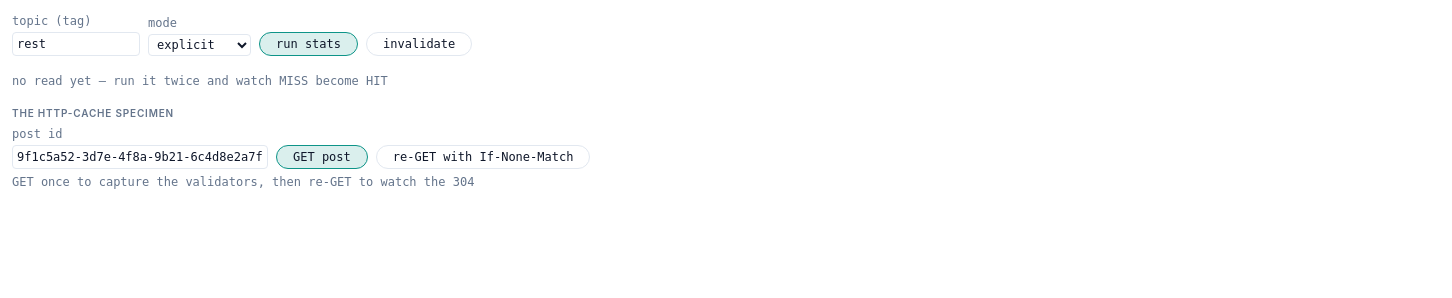
Test case: LabDemo › captures the etag from the 200 and sends it back as If-None-Match for the 304
The width and height of the screenshot is (1452, 298).
Click the button with test id "caching-get" at (322, 157), box [276,145,368,169]
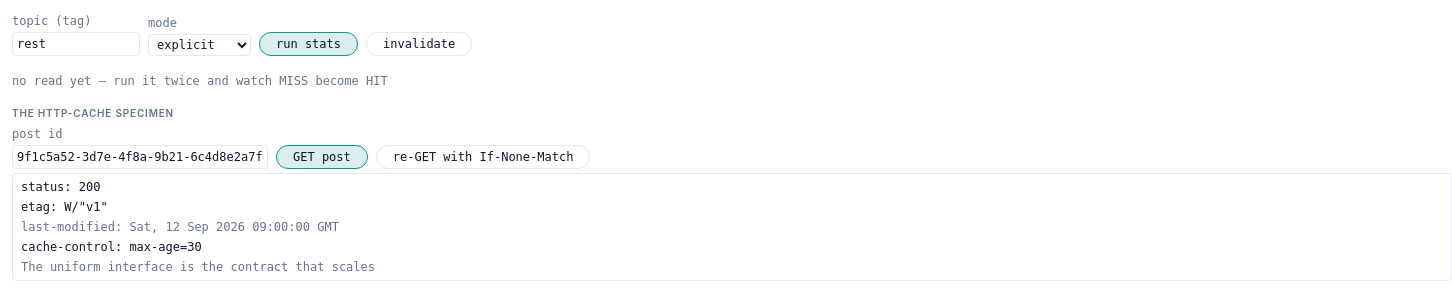
Expected: the element with test id "caching-specimen-result" shows "status: 200", [12,173,1451,281]
Expected: the text with test id "caching-specimen-etag" shows "W/\"v1\"", [64,200,108,214]
Expected: the text with test id "caching-specimen-cache-control" shows "max-age=30", [129,240,202,254]
Click the button with test id "caching-revalidate" at (483, 157), box [376,145,590,169]
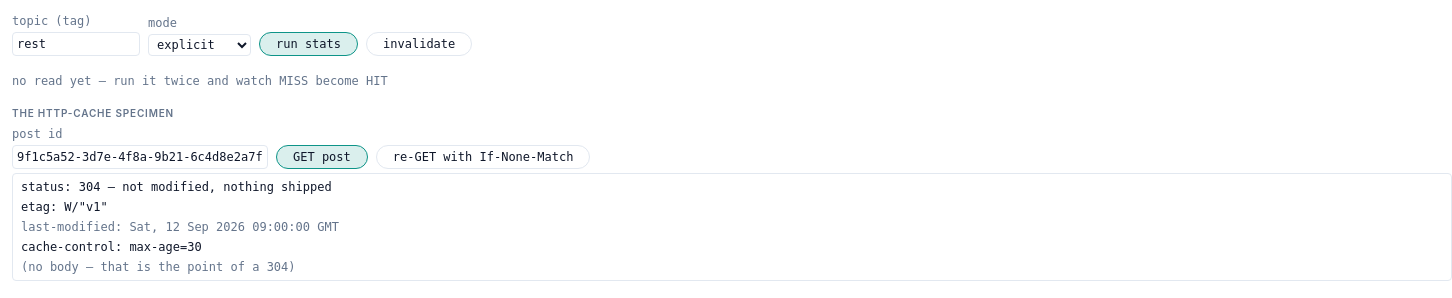
Expected: the element with test id "caching-specimen-result" shows "status: 304", [12,173,1451,281]
Expected: the element with test id "caching-specimen-result" shows "nothing shipped", [100,180,332,194]
